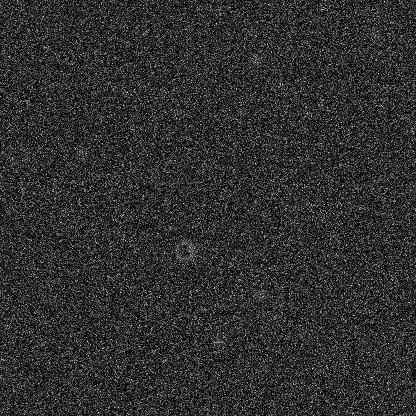Ring: (172, 238, 196, 262), (5, 145, 29, 169)
Spot: (71, 145, 87, 161), (57, 223, 73, 239), (211, 332, 227, 348), (246, 52, 262, 68), (251, 286, 267, 302), (333, 51, 349, 67), (366, 24, 382, 40)
